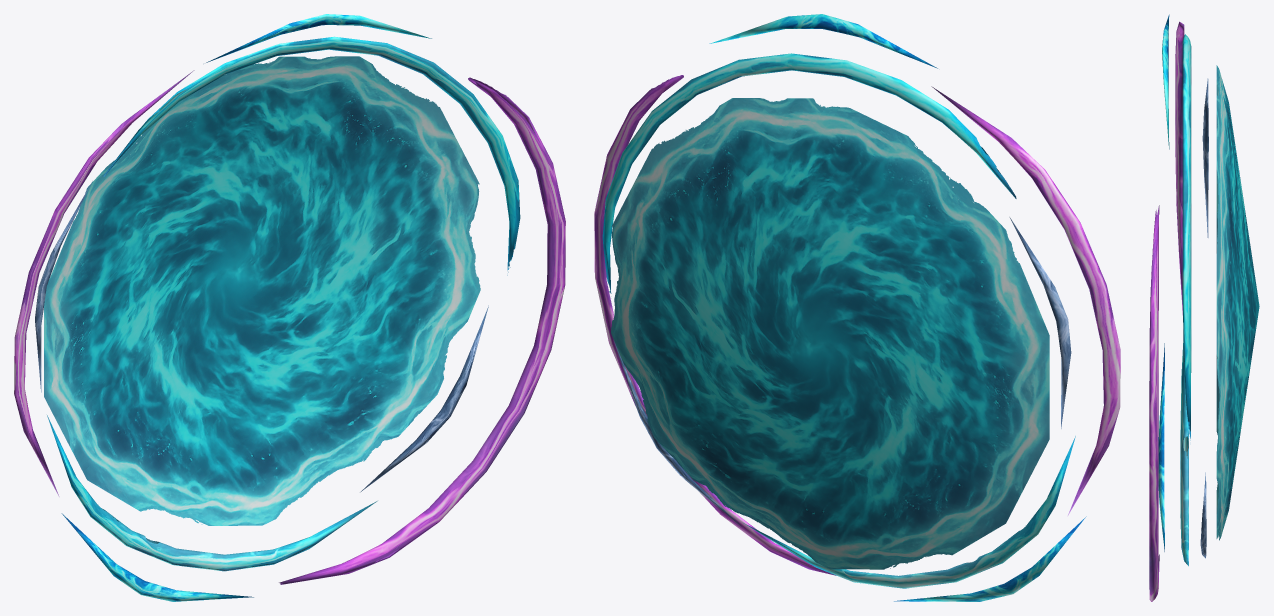
Rendered from portal.fbx.
3 views of the same model, side by side, from view 1: azimuth 30°, elevation 25°; view 2: azimuth 150°, elevation 25°; view 3: azimuth 270°, elevation 25° (orthographic). The views are drawn at different scales.
Parts seen in each view (by area): view 1: portal, 3, 1, 4, 2; view 2: portal, 1, 3, 4, 2; view 3: portal, 3, 1, 4, 2.
Boxes of the visible parts, x1=… form: portal: x1=44, y1=56, x2=480, y2=525; 3: x1=14, y1=70, x2=565, y2=584; 1: x1=47, y1=36, x2=520, y2=571; 4: x1=61, y1=14, x2=431, y2=601; 2: x1=35, y1=181, x2=488, y2=492; portal: x1=611, y1=98, x2=1049, y2=569; 1: x1=602, y1=53, x2=1075, y2=588; 3: x1=594, y1=75, x2=1120, y2=575; 4: x1=709, y1=14, x2=1086, y2=601; 2: x1=614, y1=217, x2=1071, y2=526; portal: x1=1216, y1=65, x2=1259, y2=540; 3: x1=1149, y1=21, x2=1184, y2=601; 1: x1=1180, y1=34, x2=1191, y2=566; 4: x1=1158, y1=14, x2=1169, y2=551; 2: x1=1200, y1=78, x2=1208, y2=558.
Bounding box in the file's own units: 1341 × 1351 × 250.
Materials: 1 (1 with a texture image).
